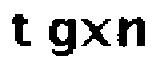g: (45, 16, 79, 60)
n: (116, 14, 147, 51)
t: (8, 9, 36, 49)
x: (81, 16, 109, 49)
